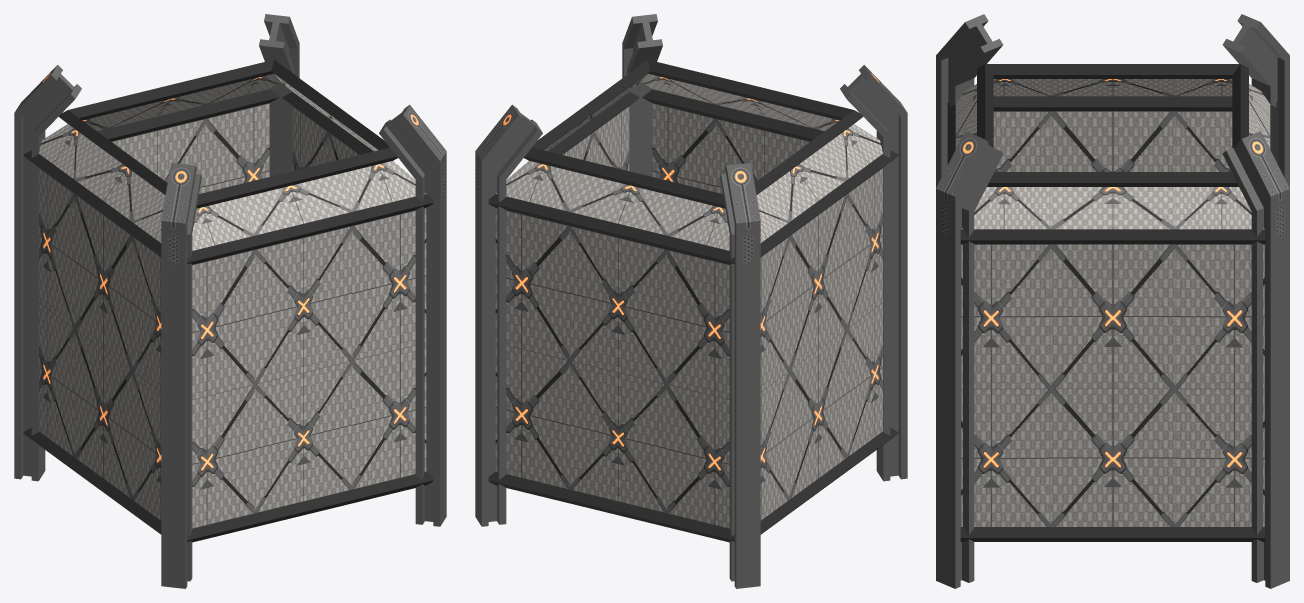
The picture shows the model from 3 angles, left to right: view 1: azimuth 30°, elevation 25°; view 2: azimuth 150°, elevation 25°; view 3: azimuth 270°, elevation 25°; orthographic projection. The views are drawn at different scales.
Parts seen in each view (by area): view 1: Plane.006; view 2: Plane.006; view 3: Plane.006.
Part boxes in pixels (bbox=[...]): Plane.006: bbox=[14, 14, 446, 588]; Plane.006: bbox=[475, 14, 907, 588]; Plane.006: bbox=[936, 14, 1289, 588].
Size of the model in its own units: 20.45 by 27.9 by 20.45.
Materials: 1 (1 with a texture image).
